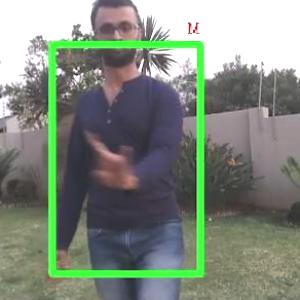takeoff-hand: (81, 130, 136, 187)
